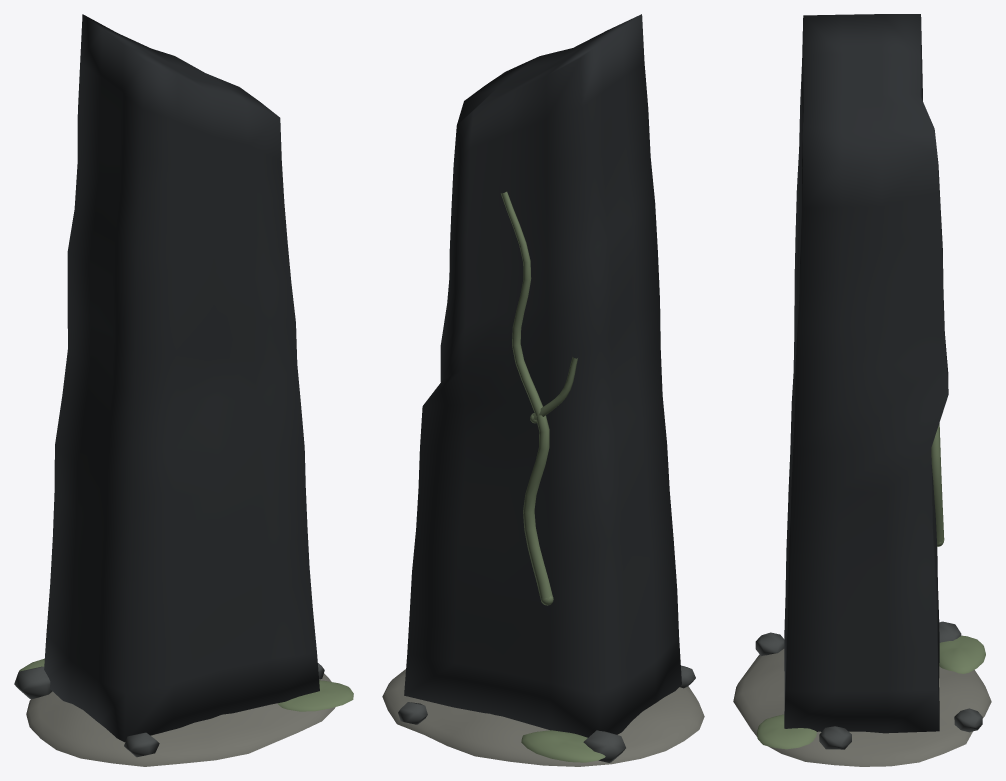
The model's file is extra_obsidian_monolith.glb.
The picture shows the model from 3 angles, left to right: view 1: azimuth 30°, elevation 25°; view 2: azimuth 150°, elevation 25°; view 3: azimuth 270°, elevation 25°; orthographic projection. The views are drawn at different scales.
Visible parts, largest first — view 1: stone, plaster; view 2: stone, plaster; view 3: stone, plaster.
Part boxes in pixels (x1=…): stone: x1=14, y1=14, x2=335, y2=766; plaster: x1=19, y1=658, x2=353, y2=711; stone: x1=382, y1=14, x2=704, y2=766; plaster: x1=501, y1=191, x2=605, y2=762; stone: x1=733, y1=14, x2=991, y2=766; plaster: x1=757, y1=423, x2=985, y2=749.
Bounding box in the file's own units: 1.2 × 2.8 × 1.
